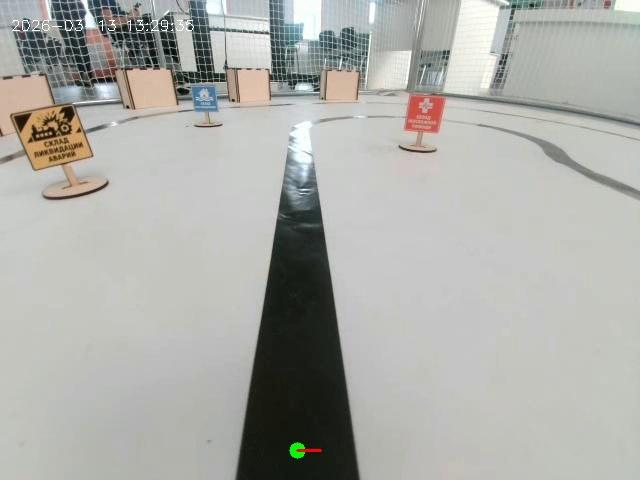flood: (180, 74, 222, 132)
industrial: (6, 105, 119, 231)
medical: (388, 76, 466, 169)
